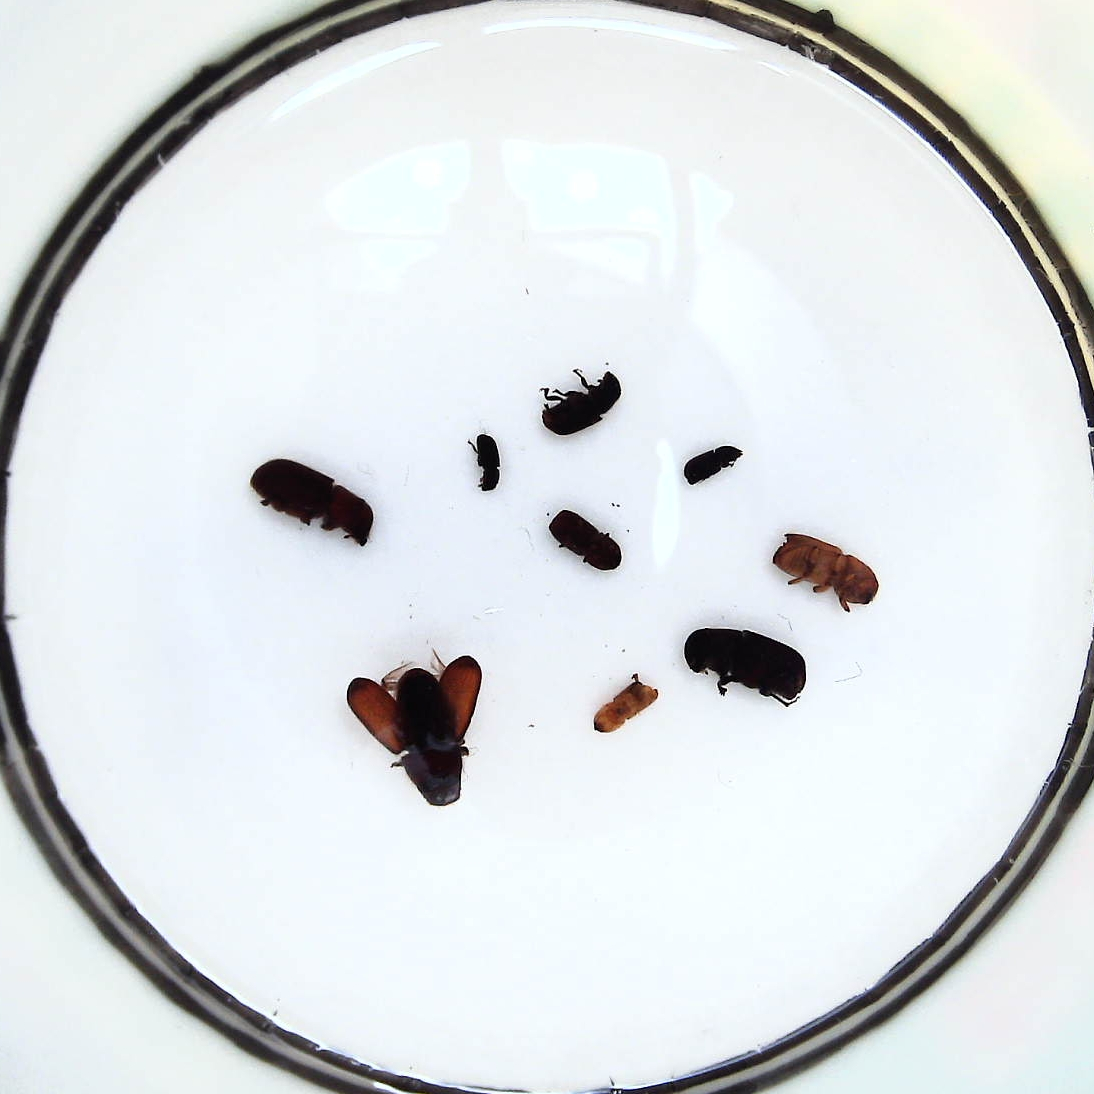Boerner: (773, 533, 878, 611)
Leconte: (346, 654, 482, 805), (249, 458, 373, 546), (685, 628, 807, 706)
acuminatus: (684, 446, 744, 485), (476, 433, 500, 490)
armandi: (541, 372, 621, 435)
coleoptera: (593, 681, 657, 733)
linnaeus: (549, 509, 622, 570)
